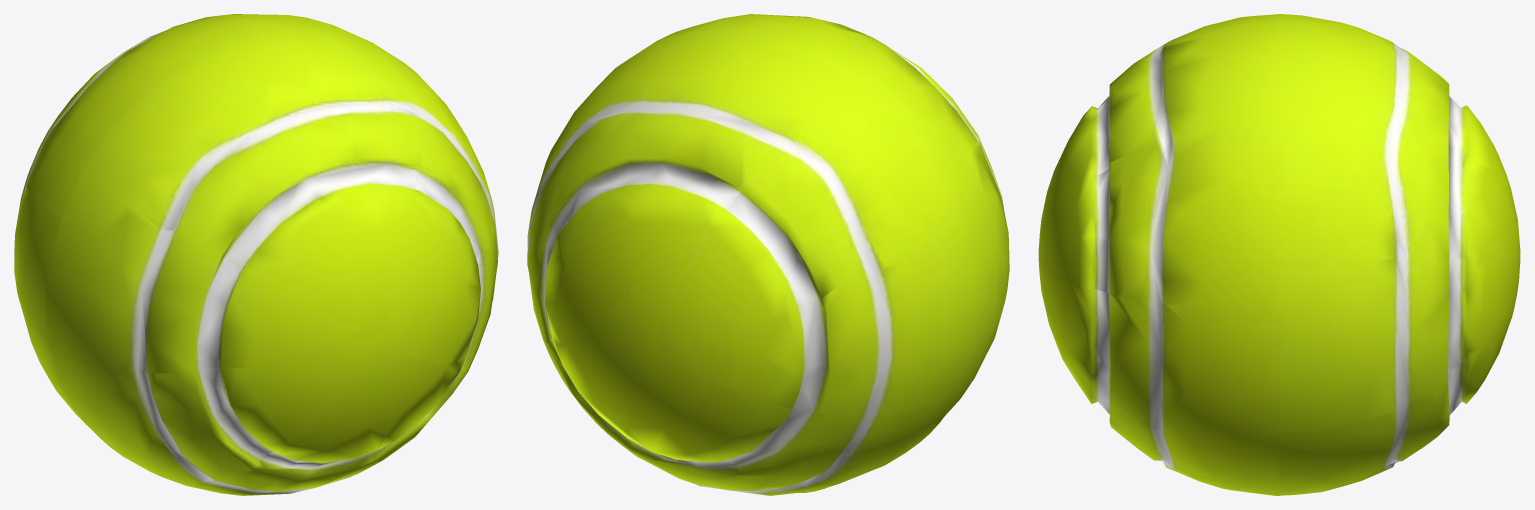
Rendered from ball.glb.
The picture shows the model from 3 angles, left to right: view 1: azimuth 30°, elevation 25°; view 2: azimuth 150°, elevation 25°; view 3: azimuth 270°, elevation 25°; orthographic projection.
Size of the model in its own units: 1.9 by 1.9 by 1.9.
Materials: 1 (1 with a texture image).
